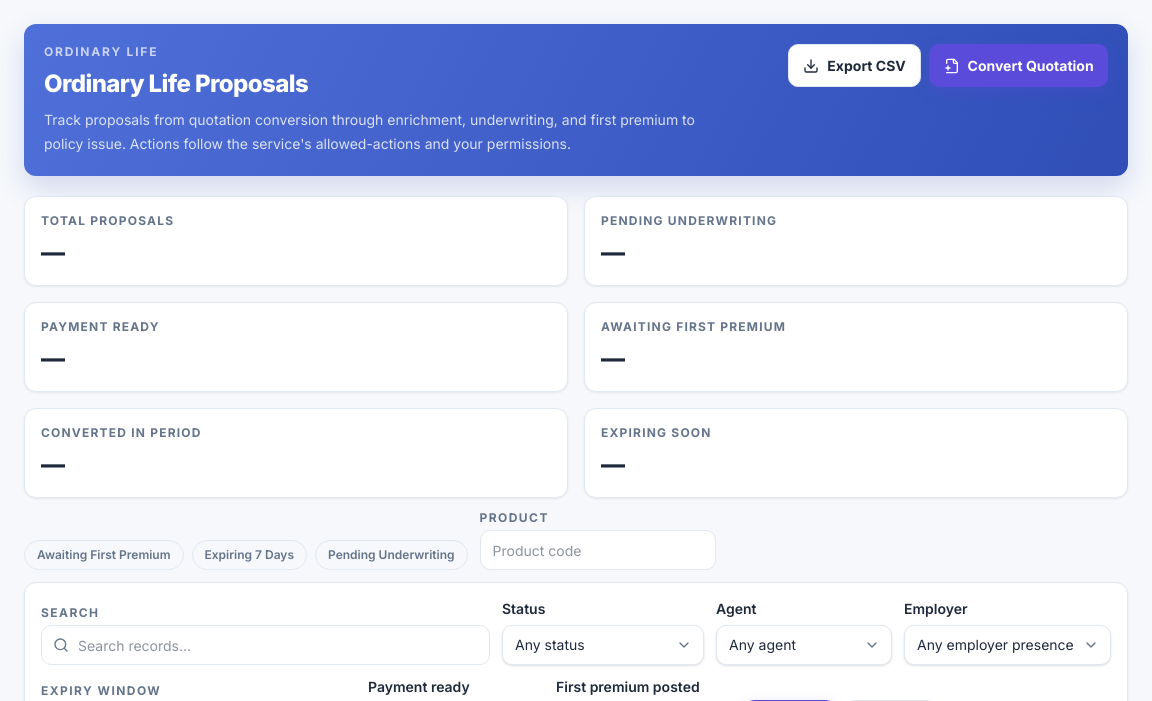
Test: Convert quotation modal › lists finalized quotations with verified badges and version chips
Later steps or results of the test are not shown.
Click the button with test id "convert-quotation-button".
click(1019, 66)  # box [929,44,1108,87]
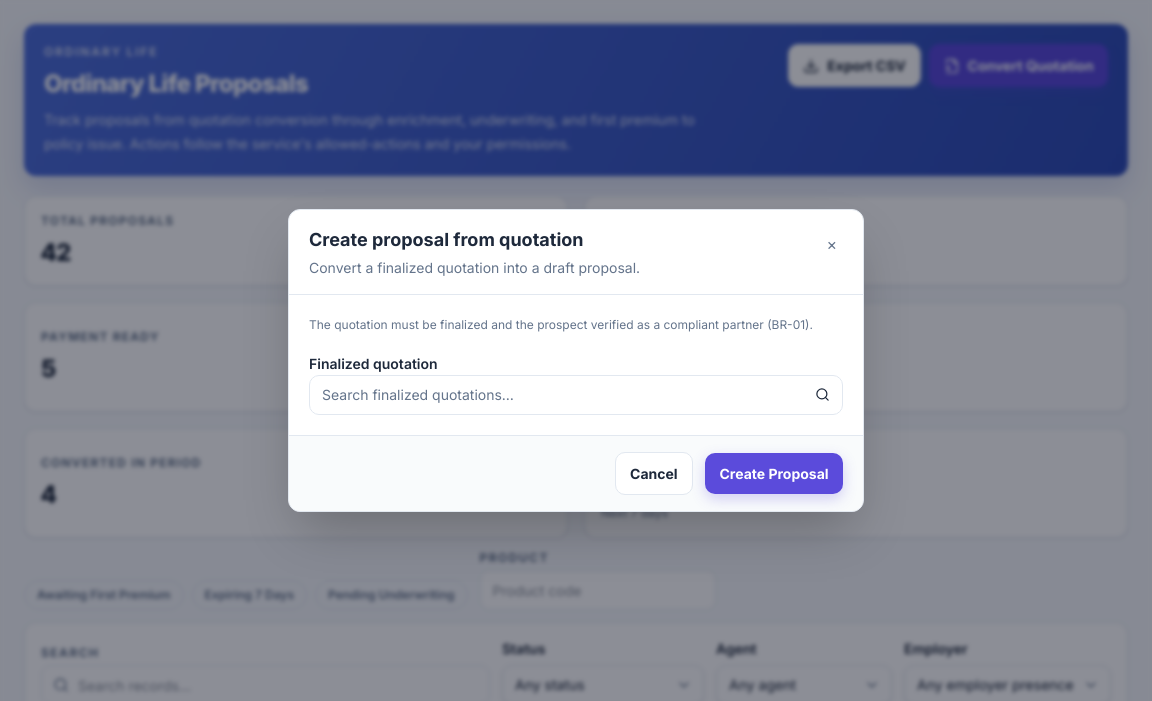
Result: the button with test id "quotation-picker-trigger" is shown at [309,374,843,414]
